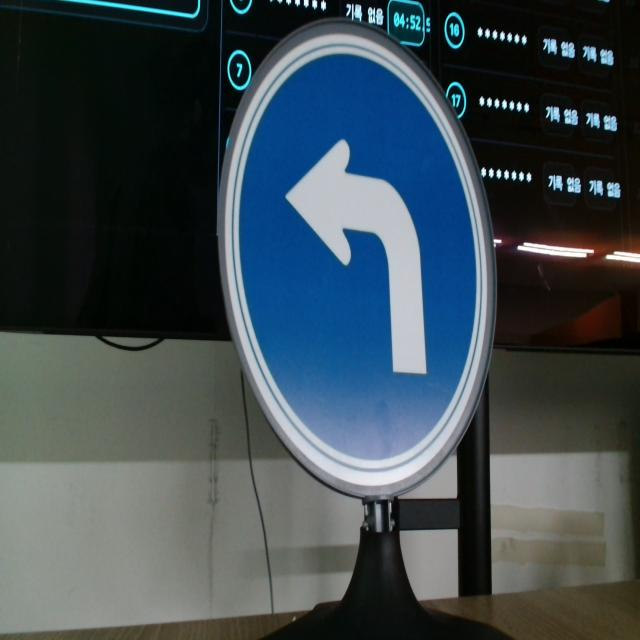left_direction: (208, 0, 510, 528)
